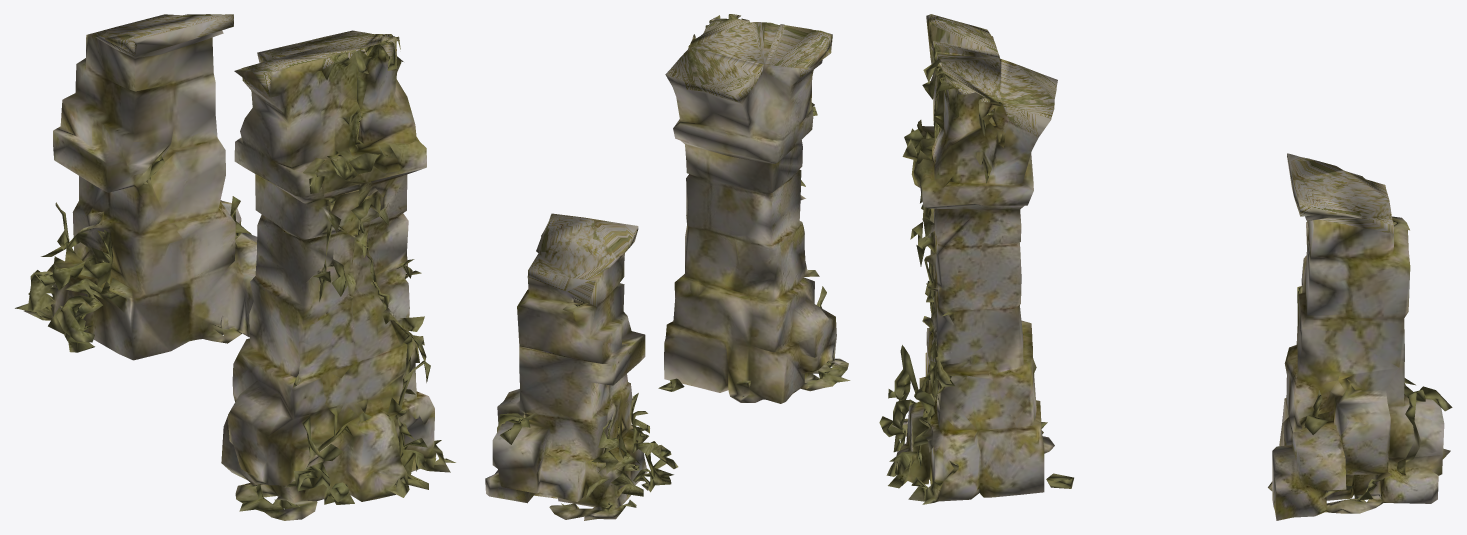
Rendered from ruin_arch_b.glb.
The picture shows the model from 3 angles, left to right: view 1: azimuth 30°, elevation 25°; view 2: azimuth 150°, elevation 25°; view 3: azimuth 270°, elevation 25°; orthographic projection. The views are drawn at different scales.
Visible parts, largest first — view 1: ruin_arch_b__arch; view 2: ruin_arch_b__arch; view 3: ruin_arch_b__arch.
Boxes of the visible parts, x1=… form: ruin_arch_b__arch: x1=15, y1=14, x2=455, y2=520; ruin_arch_b__arch: x1=485, y1=14, x2=850, y2=520; ruin_arch_b__arch: x1=879, y1=14, x2=1452, y2=520.
Bounding box in the file's own units: 1.24 × 2.22 × 2.78.
Materials: 1 (1 with a texture image).
